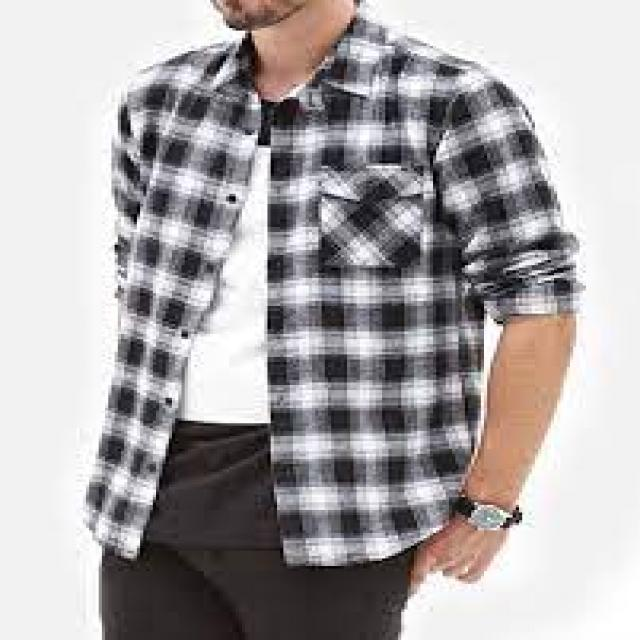plaid: (55, 34, 585, 587)
